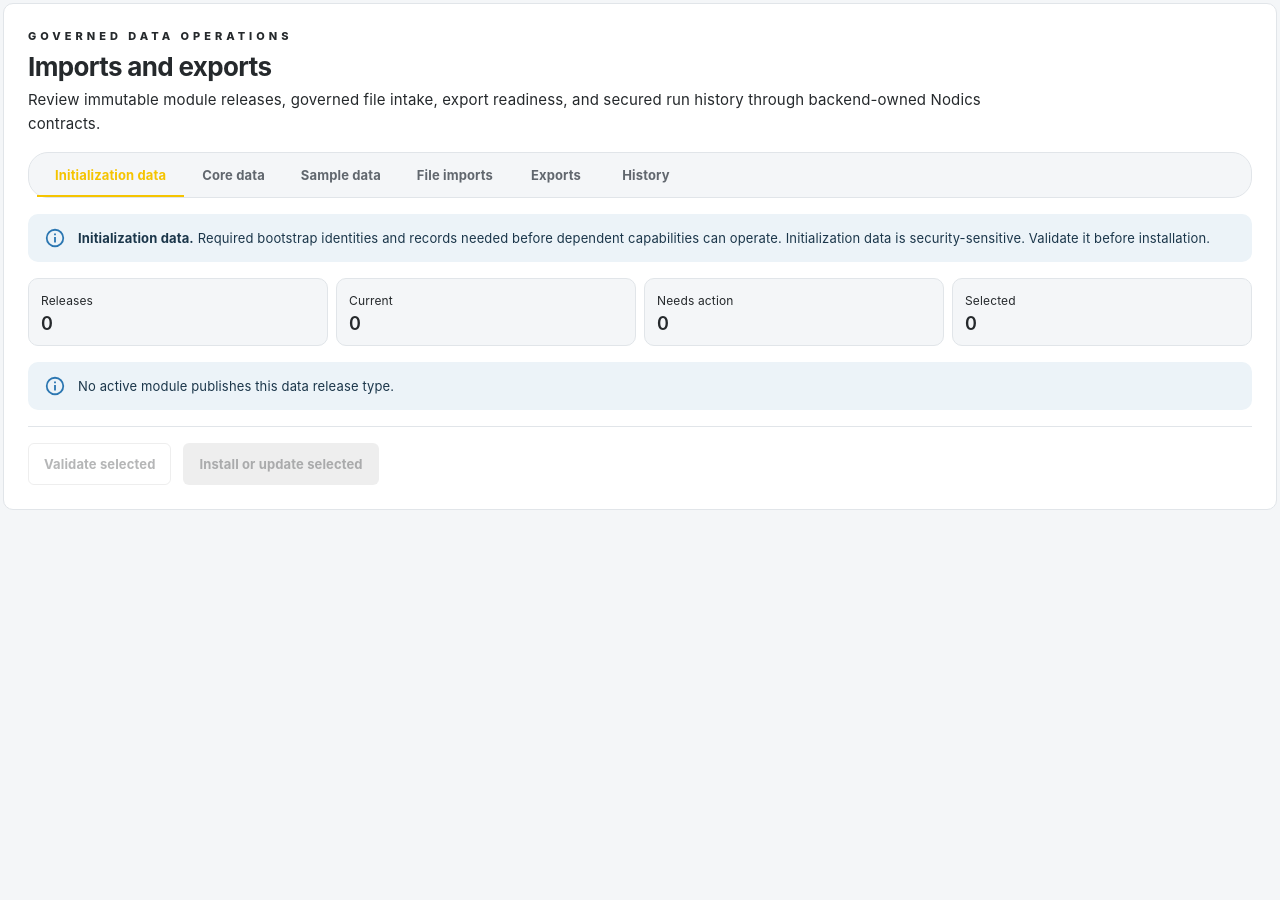
Scenario: ImportExportRoutePage › validates current releases without enabling no-op installation
Step 1. Click the tab "Core data" → click(234, 175), box left=184, top=153, right=283, bottom=197
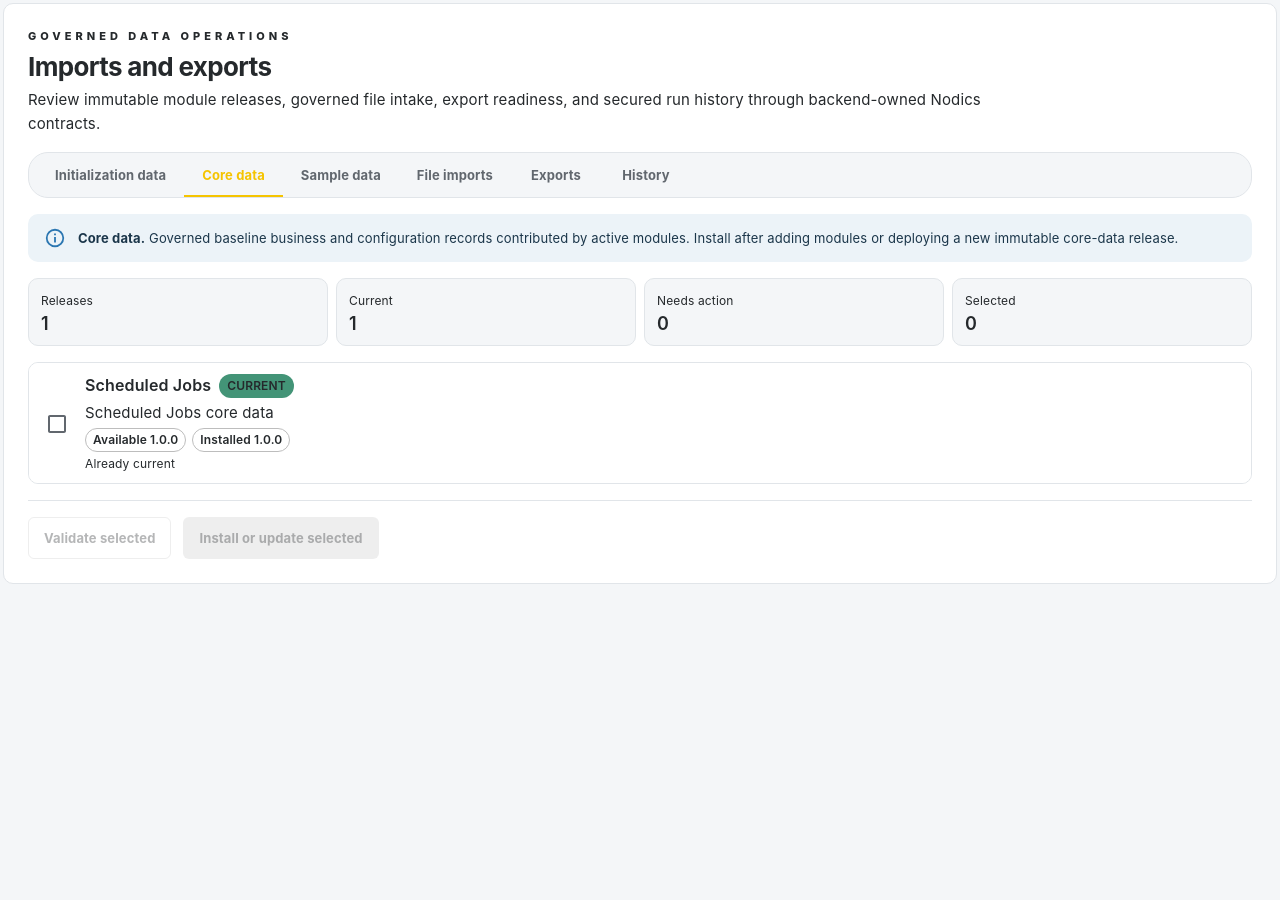
Step 2. Click the checkbox named "Select Scheduled Jobs" → click(57, 424), box left=45, top=412, right=69, bottom=436
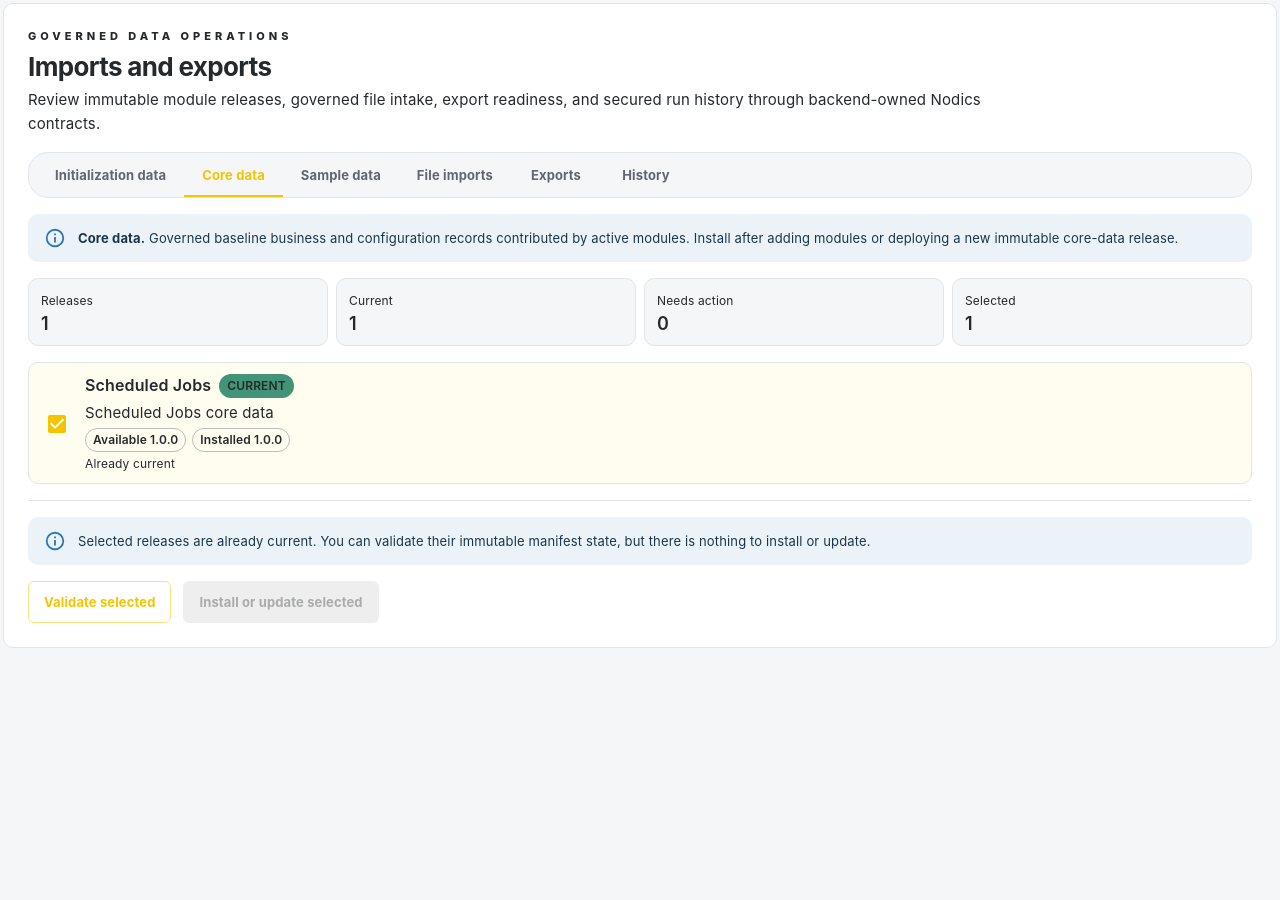
Expected: the button "Install or update selected" is disabled, left=184, top=581, right=379, bottom=623
Expected: the text "Selected releases are already current" is shown, left=78, top=533, right=870, bottom=549
Step 3. Click the button "Validate selected" → click(100, 602), box left=28, top=581, right=172, bottom=623
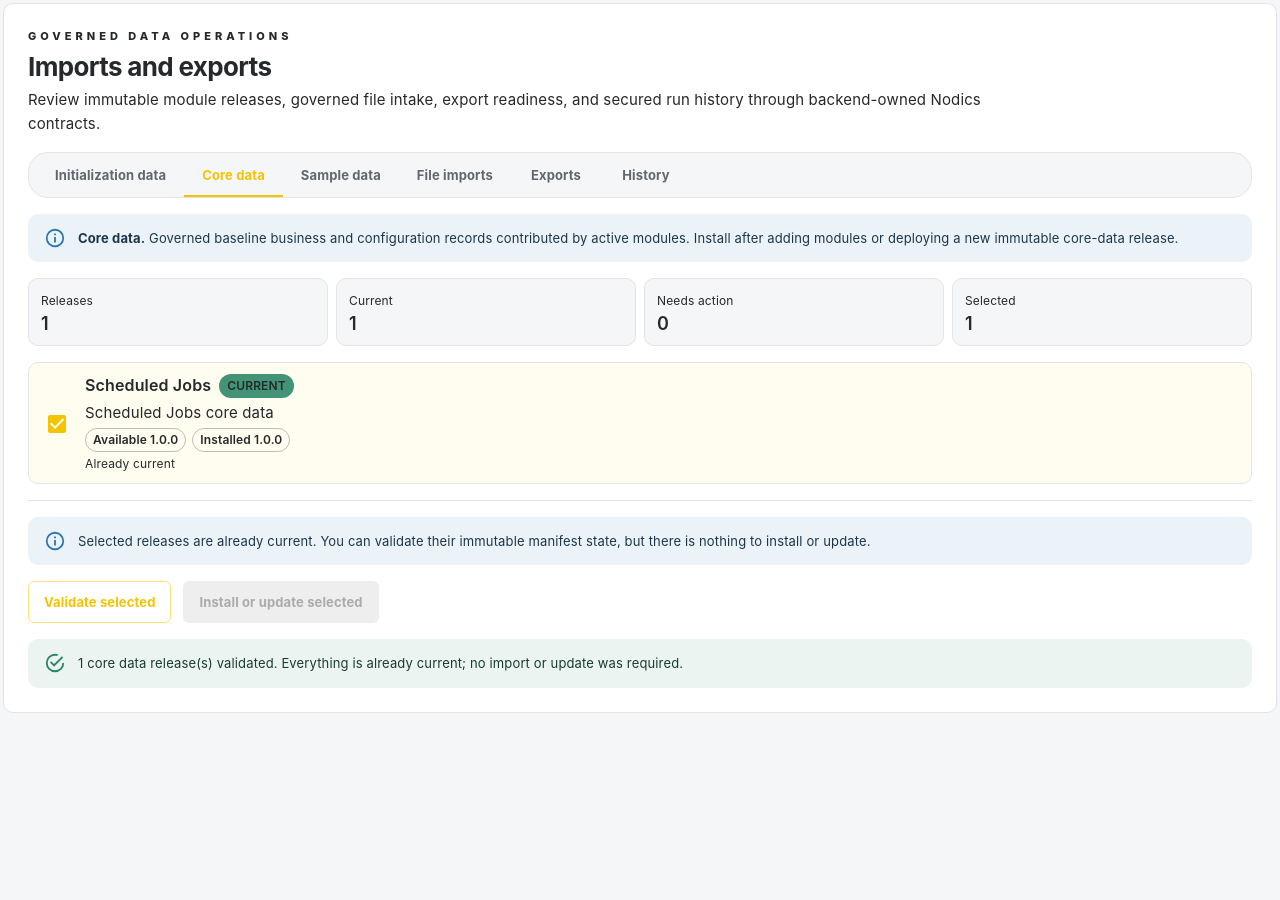
Expected: the text "validated. Everything is already current; no import or update was required" is shown, left=78, top=655, right=683, bottom=671
